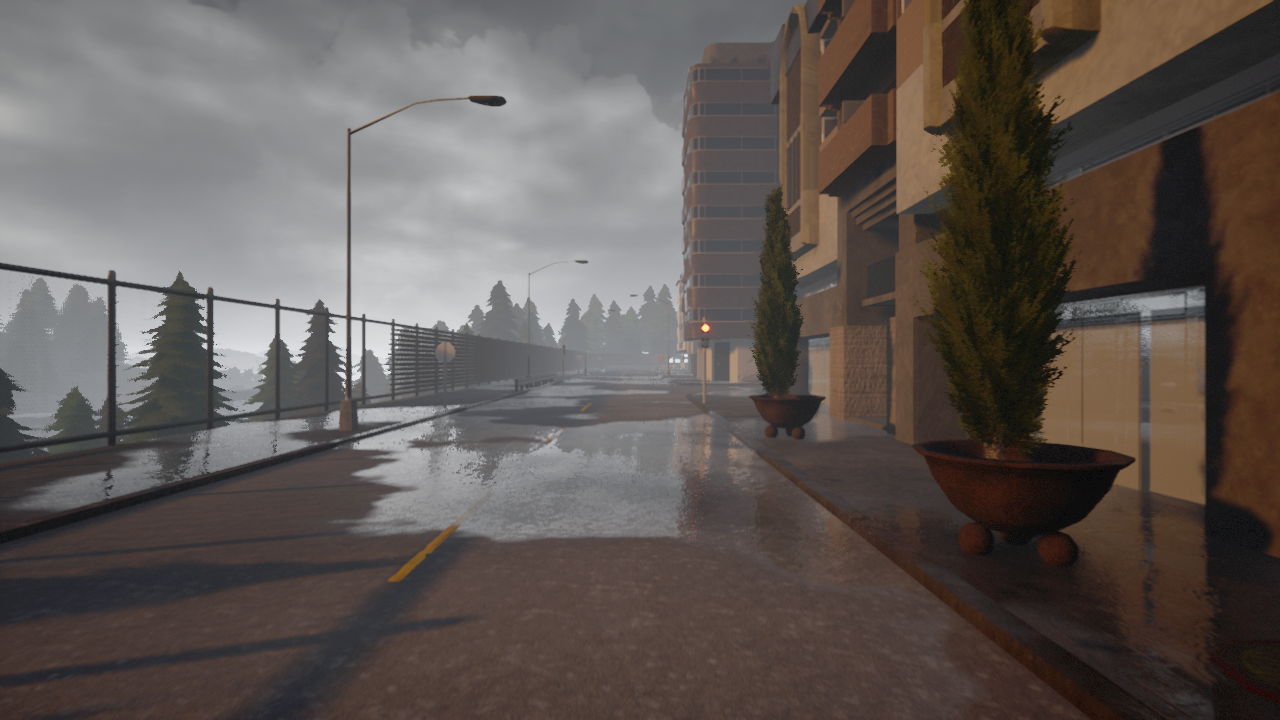red: (699, 322, 711, 348)
